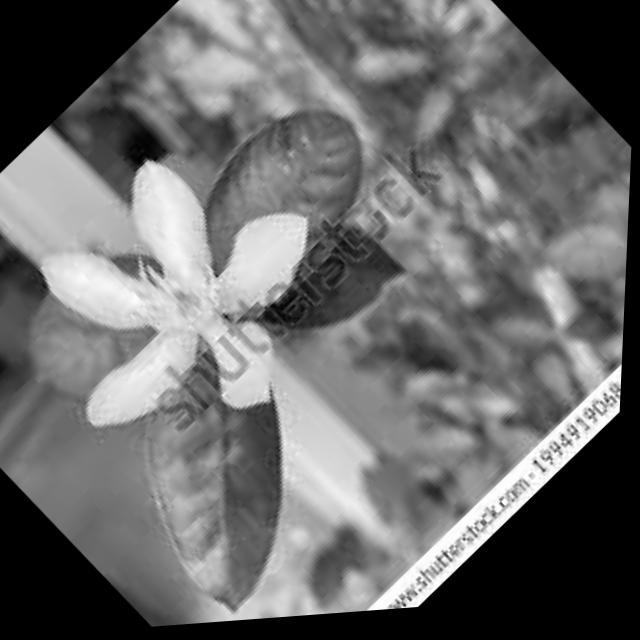Flower: (0, 88, 389, 522)
